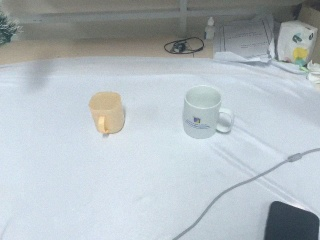box: (275, 19, 317, 64)
cup: (182, 85, 234, 141), (88, 91, 125, 135)
phone: (263, 200, 320, 240)
